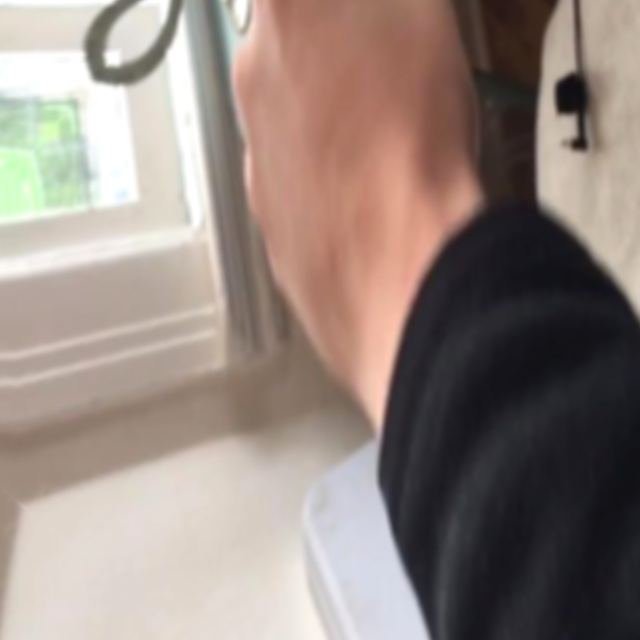Rock: (0, 0, 344, 196)
